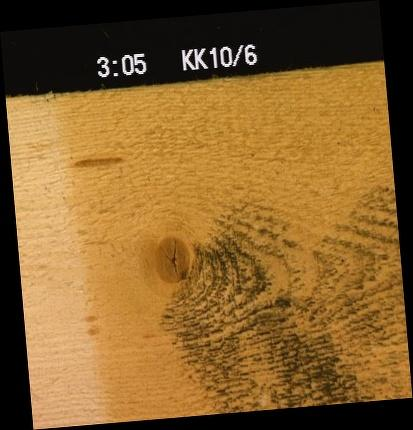sound_knot: (150, 234, 189, 283)
